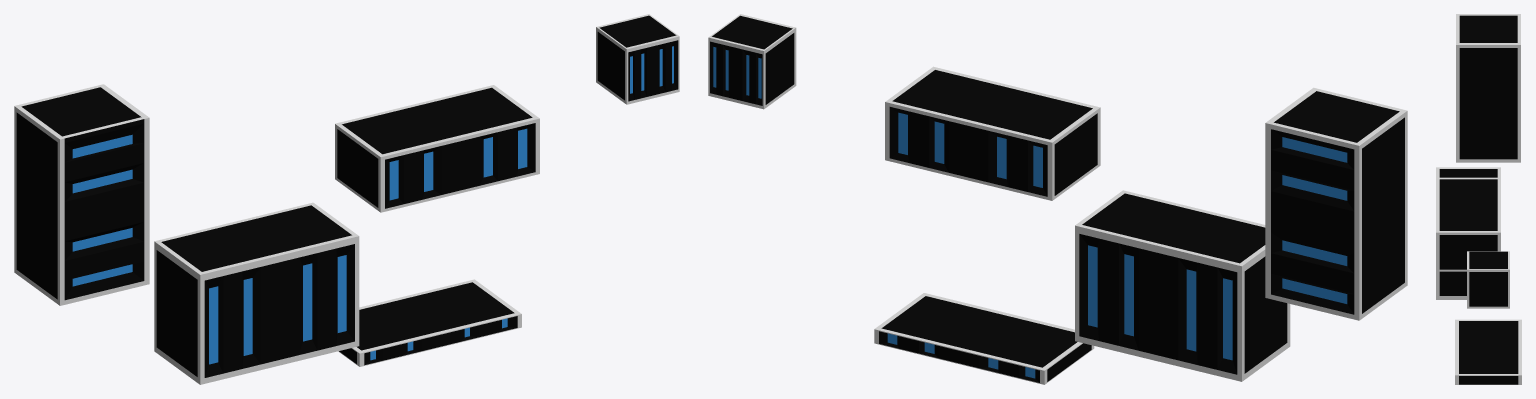
Rendered from Pixelated.fbx.
The picture shows the model from 3 angles, left to right: view 1: azimuth 30°, elevation 25°; view 2: azimuth 150°, elevation 25°; view 3: azimuth 270°, elevation 25°; orthographic projection. The views are drawn at different scales.
Parts seen in each view (by area): view 1: Cube.005, Cube, Cube.001, Cube.004, Cube.002; view 2: Cube.005, Cube, Cube.001, Cube.004, Cube.002; view 3: Cube, Cube.001, Cube.004, Cube.002, Cube.005.
Part boxes in pixels (<box>): Cube.005: <box>154,202,359,384</box>; Cube: <box>14,84,149,305</box>; Cube.001: <box>335,85,539,212</box>; Cube.004: <box>338,279,521,366</box>; Cube.002: <box>596,14,679,104</box>; Cube.005: <box>1075,190,1290,381</box>; Cube: <box>1265,87,1407,320</box>; Cube.001: <box>885,66,1100,200</box>; Cube.004: <box>874,293,1094,384</box>; Cube.002: <box>708,14,796,109</box>; Cube: <box>1456,14,1520,162</box>; Cube.001: <box>1436,177,1500,271</box>; Cube.004: <box>1455,319,1521,384</box>; Cube.002: <box>1467,251,1509,308</box>; Cube.005: <box>1436,167,1500,299</box>.
Bounding box in the file's own units: 2366 × 1081 × 397.
